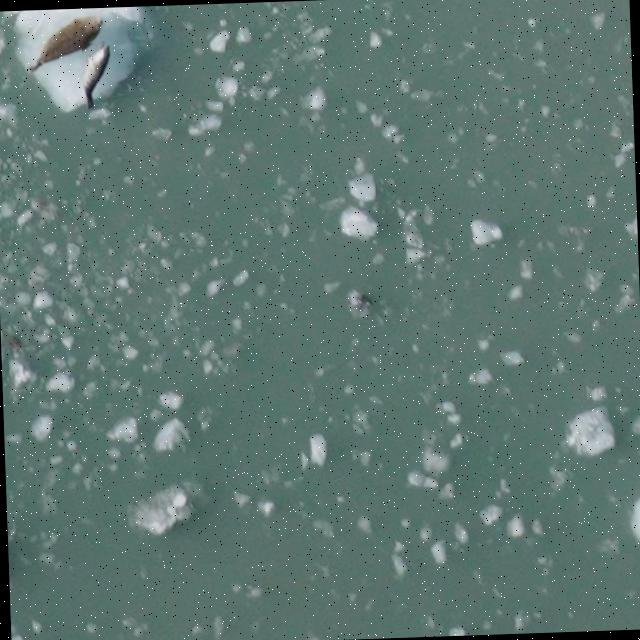seal: (18, 3, 112, 84), (71, 37, 115, 111)
